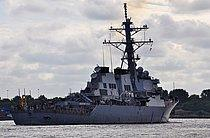MIL_Ship: (8, 52, 180, 125)
